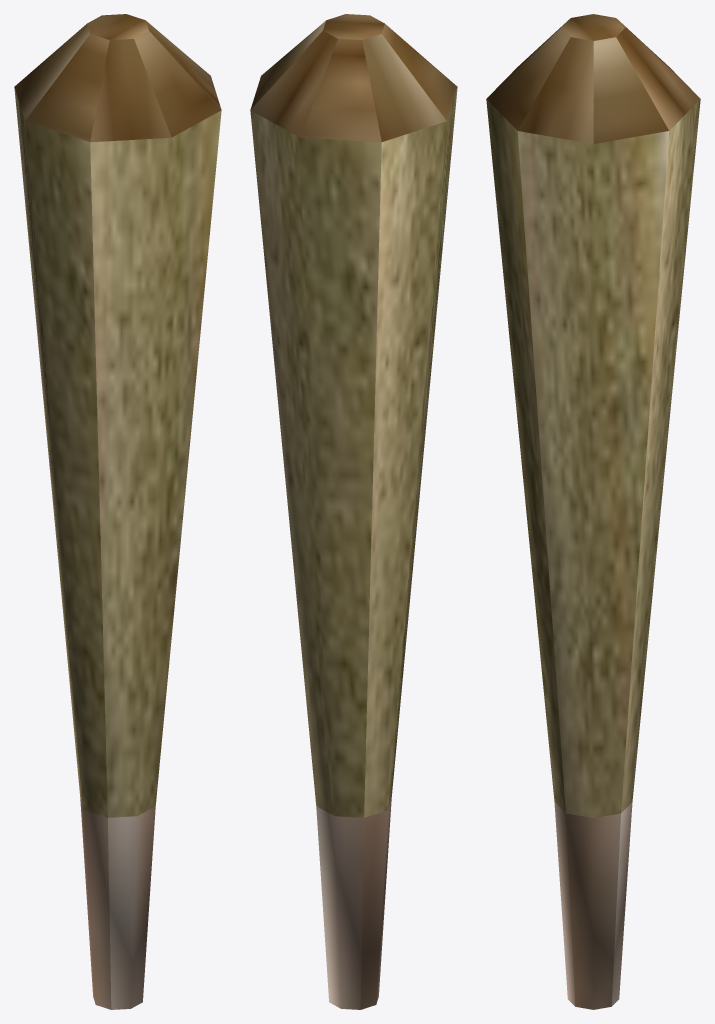
File: WeedsJoint.fbx
The picture shows the model from 3 angles, left to right: view 1: azimuth 30°, elevation 25°; view 2: azimuth 150°, elevation 25°; view 3: azimuth 270°, elevation 25°; orthographic projection.
Parts seen in each view (by area): view 1: Joint; view 2: Joint; view 3: Joint.
Boxes of the visible parts, bbox=[...] form: Joint: bbox=[14, 14, 221, 1009]; Joint: bbox=[250, 14, 457, 1009]; Joint: bbox=[486, 14, 700, 1009].
Bounding box in the file's own units: 10 × 10 × 50.
